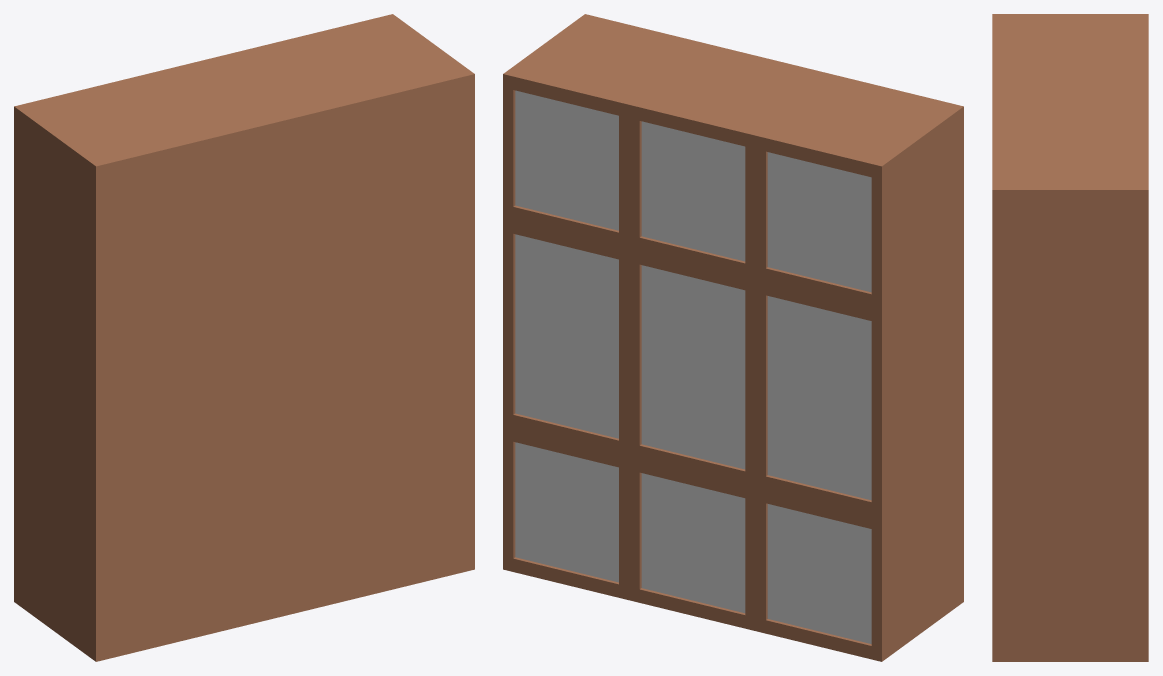
The model's file is lemari.fbx.
3 renders of one model, left to right at view 1: azimuth 30°, elevation 25°; view 2: azimuth 150°, elevation 25°; view 3: azimuth 270°, elevation 25°, orthographic. The views are drawn at different scales.
Parts seen in each view (by area): view 1: lemari.002; view 2: lemari.002; view 3: lemari.002.
Boxes of the visible parts, x1,y1,x2,y2 form: lemari.002: (14,14,474,661); lemari.002: (503,14,963,661); lemari.002: (992,14,1148,661).
Bounding box in the file's own units: 160 × 200 × 60.
